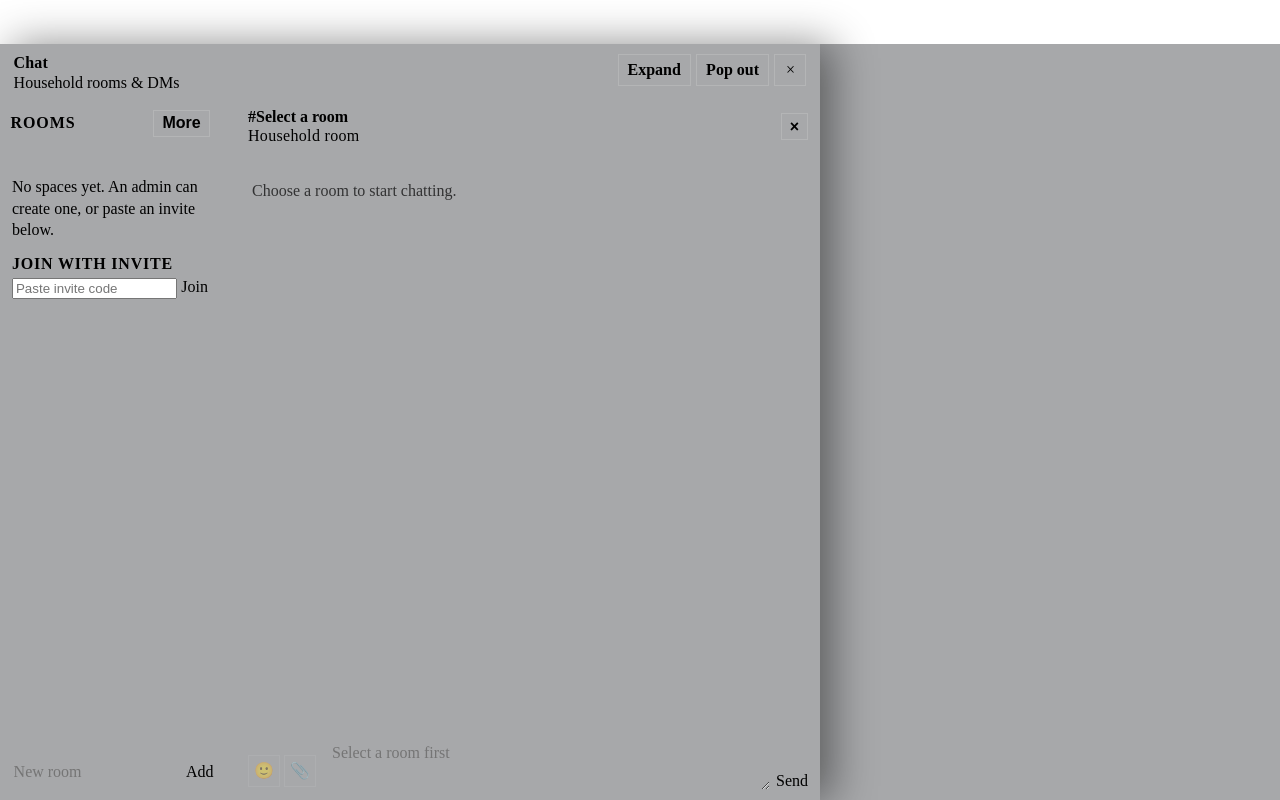
Test: expand widens slide-out room chrome
Click the button "Expand" at [654, 70], box [618,54,691,86]
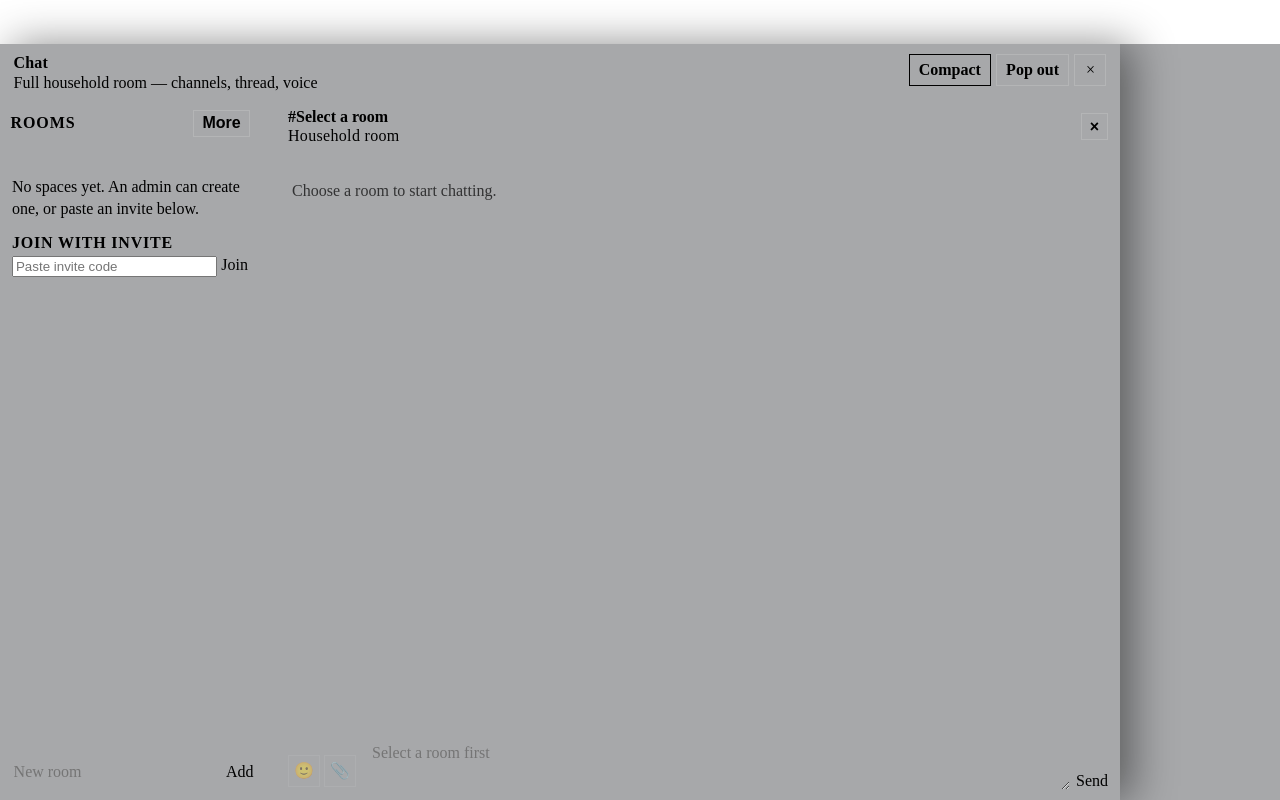
Expected: the text "Full household room — channels, thread, voice" is shown, [14,74,318,92]
